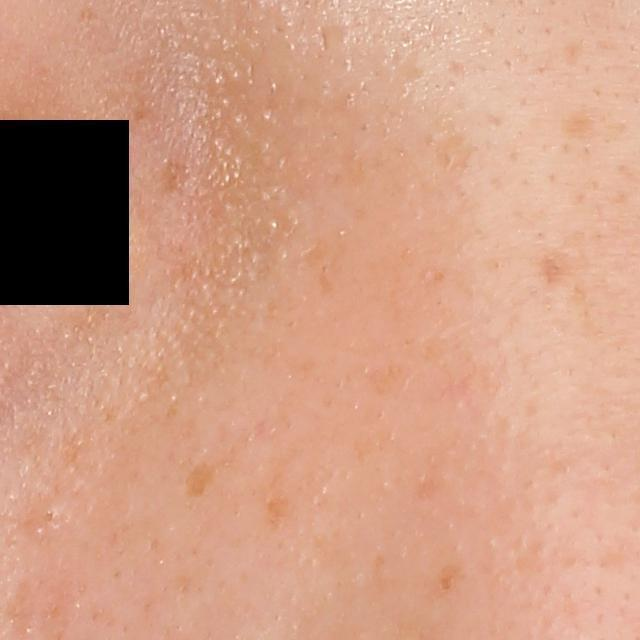comedo: (39, 502, 63, 527)
melasma: (257, 471, 299, 535), (175, 458, 224, 511), (362, 361, 426, 398), (427, 129, 475, 178), (164, 161, 194, 199), (435, 557, 462, 598)
